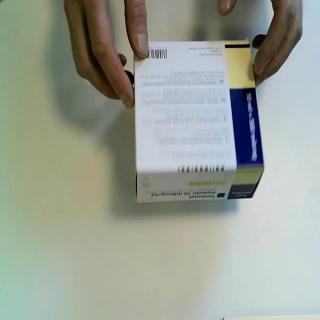fentanyl50ug_ml: (133, 38, 267, 204)
